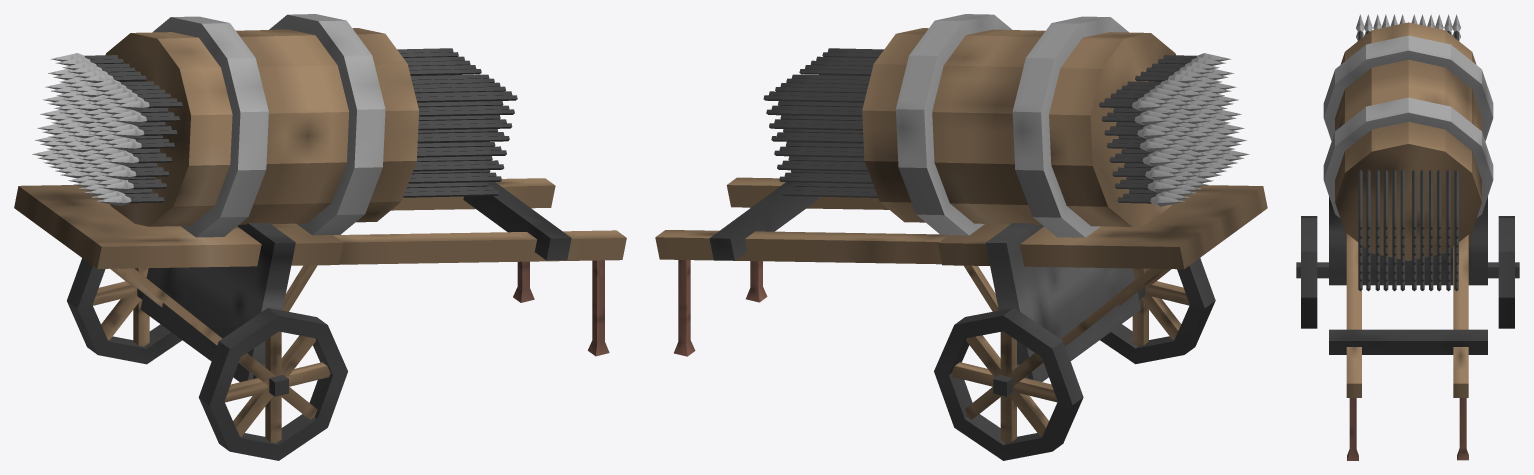
The model's file is Xebancungto.fbx.
3 renders of one model, left to right at view 1: azimuth 30°, elevation 25°; view 2: azimuth 150°, elevation 25°; view 3: azimuth 270°, elevation 25°, orthographic. The views are drawn at different scales.
Parts seen in each view (by area): view 1: Xebancungto; view 2: Xebancungto; view 3: Xebancungto.
Boxes of the visible parts, bbox=[...] form: Xebancungto: bbox=[14, 14, 626, 460]; Xebancungto: bbox=[655, 14, 1267, 460]; Xebancungto: bbox=[1296, 14, 1519, 460].
Bounding box in the file's own units: 517 × 363 × 252.
